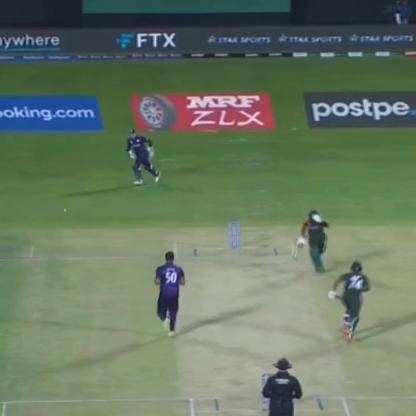ball: (62, 202, 74, 216)
bat: (286, 234, 308, 262)
pitch: (152, 235, 366, 416)
